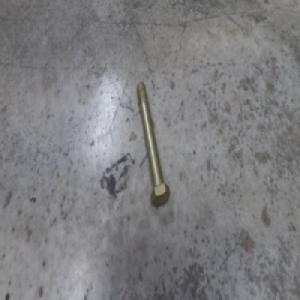Bolt: (139, 81, 173, 205)
